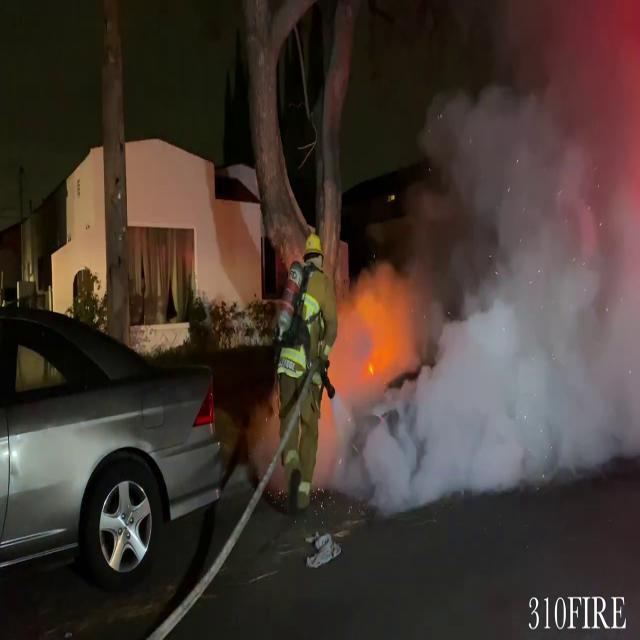Smoke: (357, 0, 640, 517)
